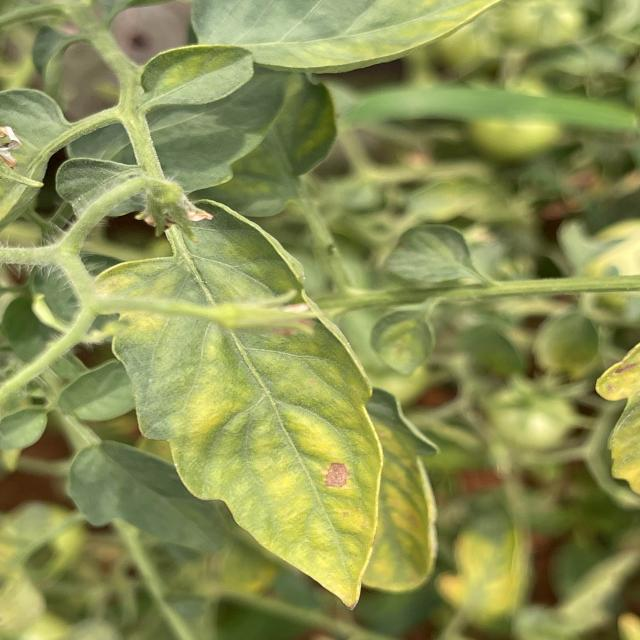tomato_early blight: (89, 198, 382, 616), (331, 377, 442, 592), (184, 0, 496, 71)
